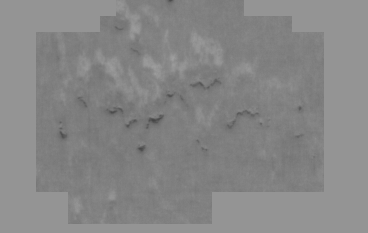oxl: (35, 10, 333, 223)
